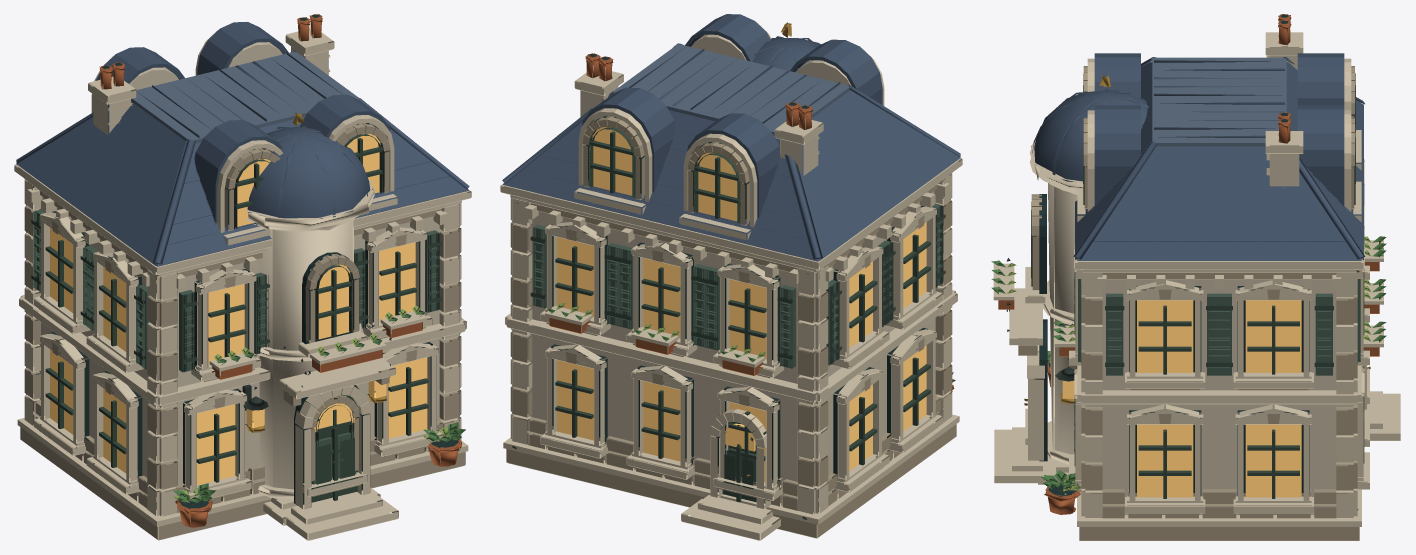
3 renders of one model, left to right at view 1: azimuth 30°, elevation 25°; view 2: azimuth 150°, elevation 25°; view 3: azimuth 270°, elevation 25°, orthographic. The views are drawn at different scales.
Visible parts, largest first — view 1: classic_tower_2_geometry, classic_tower_2_geometry ceramic; view 2: classic_tower_2_geometry, classic_tower_2_geometry ceramic; view 3: classic_tower_2_geometry, classic_tower_2_geometry ceramic.
Boxes of the visible parts, box(x1,y1,x2,y2) form: classic_tower_2_geometry: box(14, 14, 471, 540); classic_tower_2_geometry ceramic: box(16, 22, 469, 266); classic_tower_2_geometry: box(500, 22, 962, 540); classic_tower_2_geometry ceramic: box(502, 14, 960, 261); classic_tower_2_geometry: box(991, 14, 1400, 540); classic_tower_2_geometry ceramic: box(1032, 53, 1365, 260).
Bounding box in the file's own units: 0.9288 × 1.05 × 0.99.
